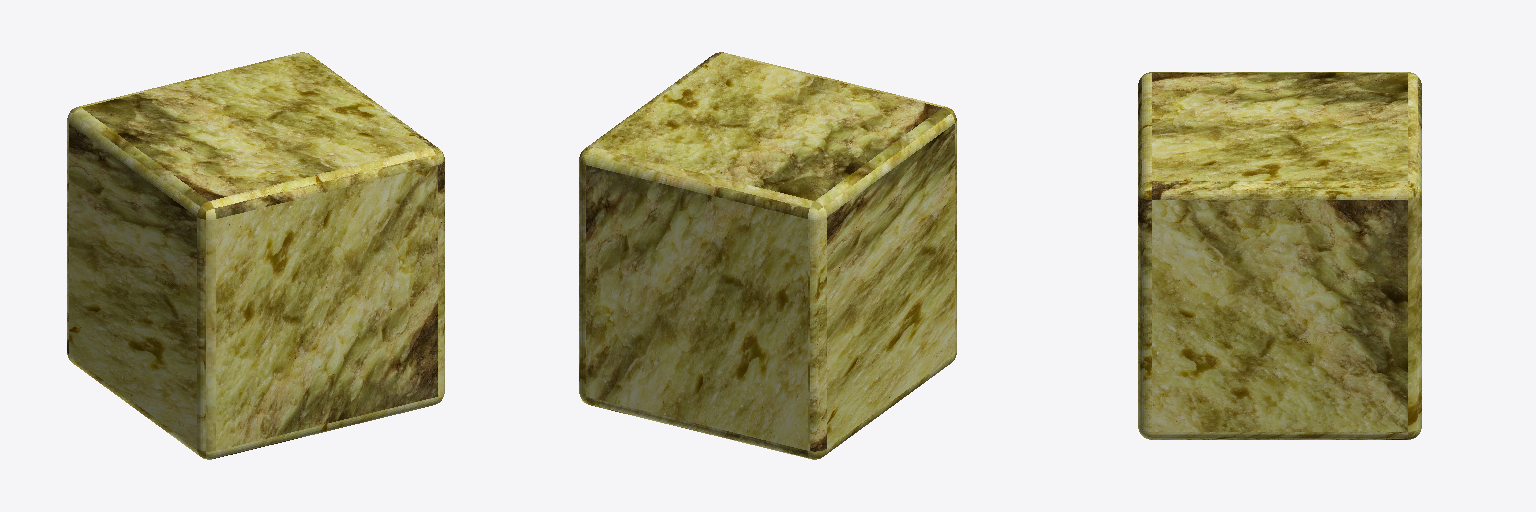
3 renders of one model, left to right at view 1: azimuth 30°, elevation 25°; view 2: azimuth 150°, elevation 25°; view 3: azimuth 270°, elevation 25°, orthographic.
Parts seen in each view (by area): view 1: Cube; view 2: Cube; view 3: Cube.
Part boxes in pixels (bbox=[...]): Cube: bbox=[67, 52, 444, 459]; Cube: bbox=[579, 52, 956, 459]; Cube: bbox=[1138, 72, 1421, 439].
Size of the model in its own units: 2 by 2 by 2.
Materials: 1 (1 with a texture image).